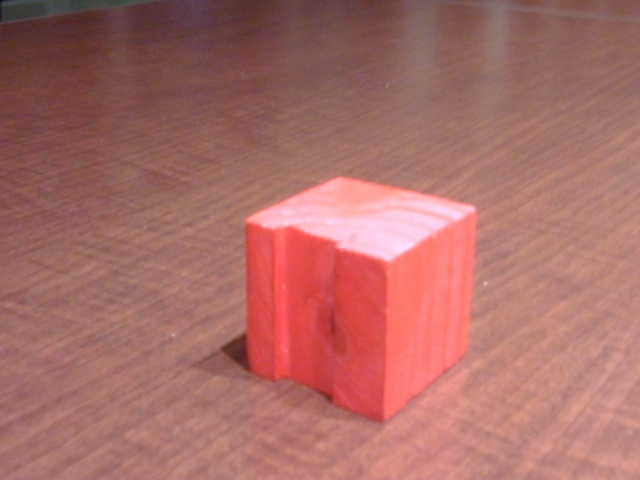RedBlock: (244, 217, 474, 419)
